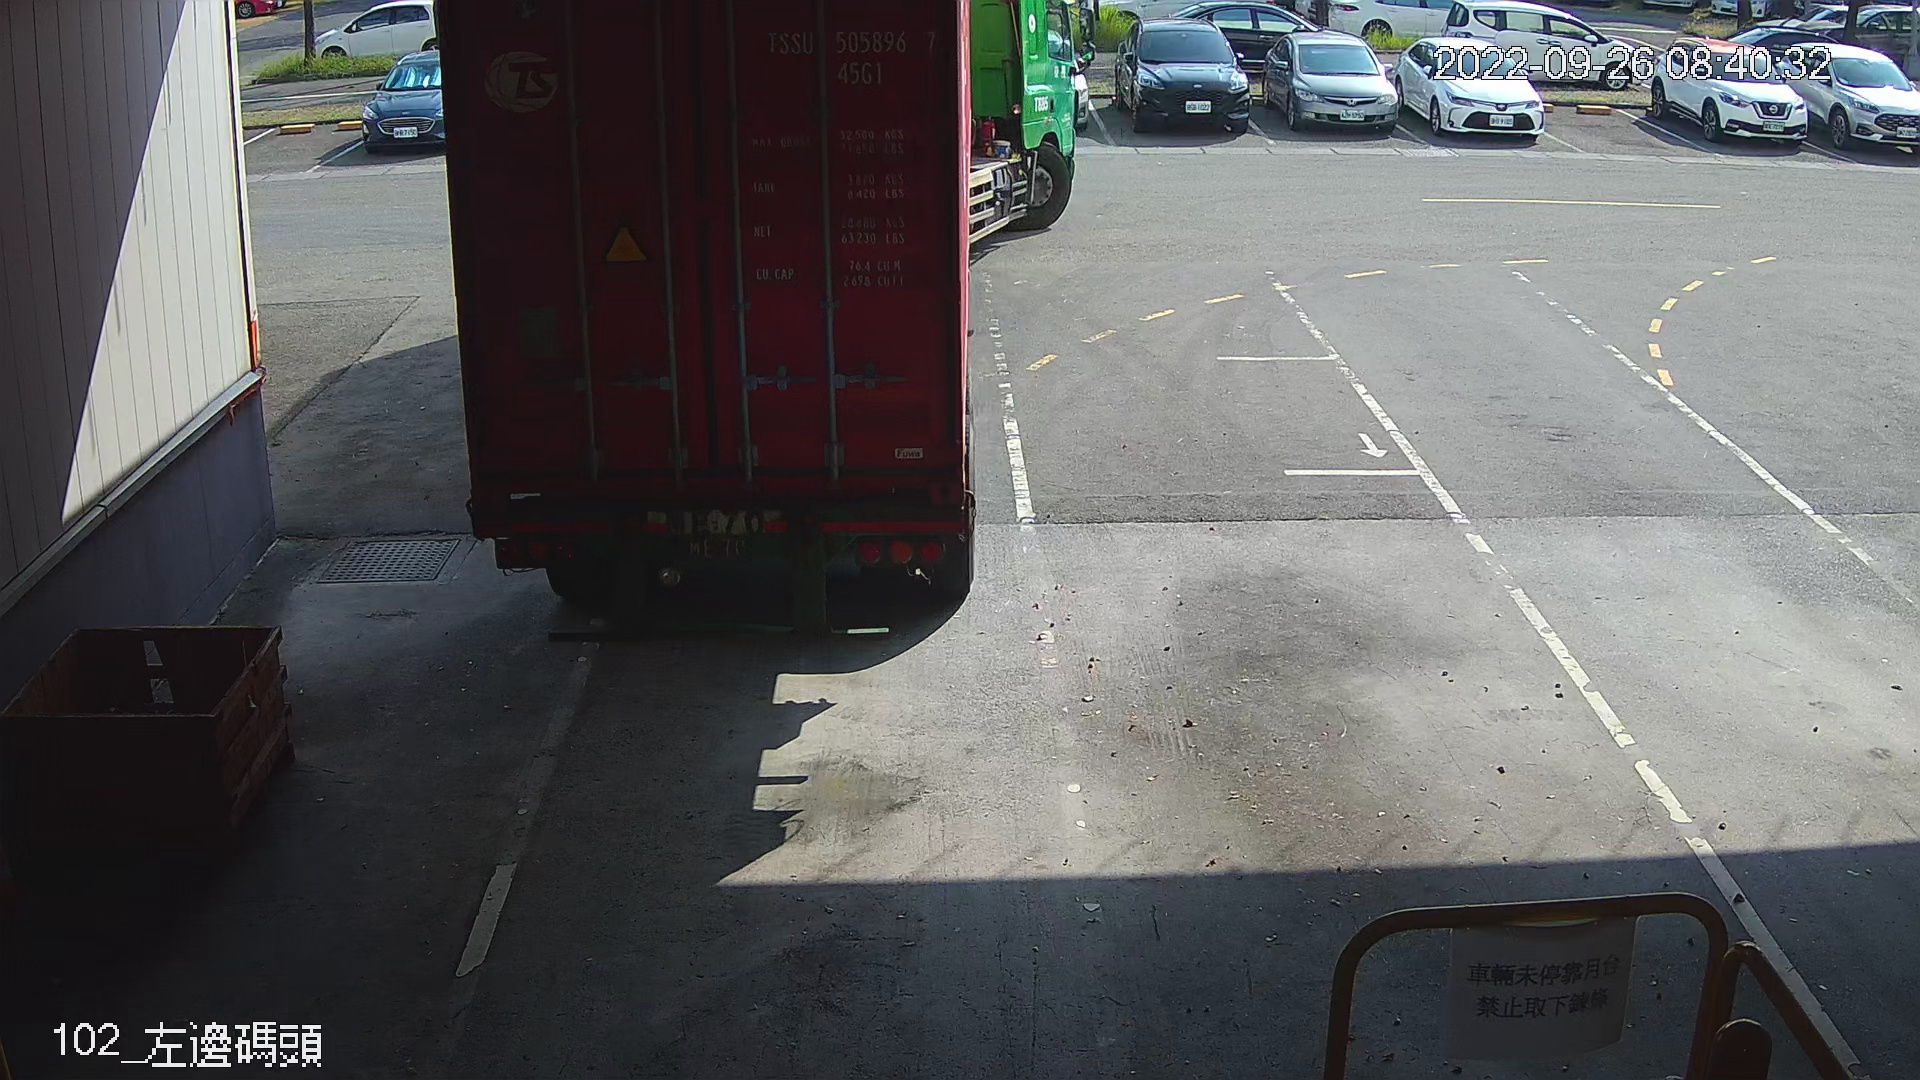container: (753, 22, 945, 91)
